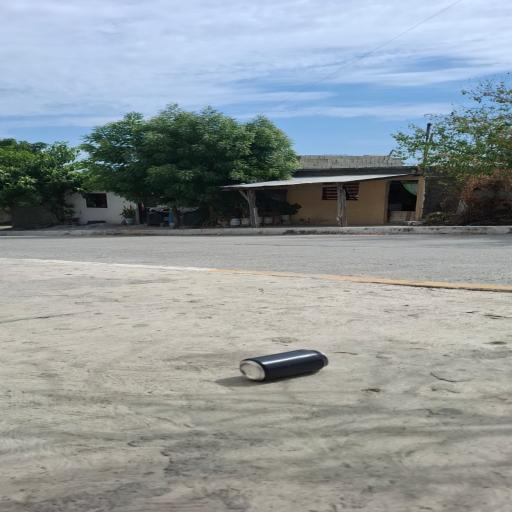LATA: (216, 350, 339, 386)
